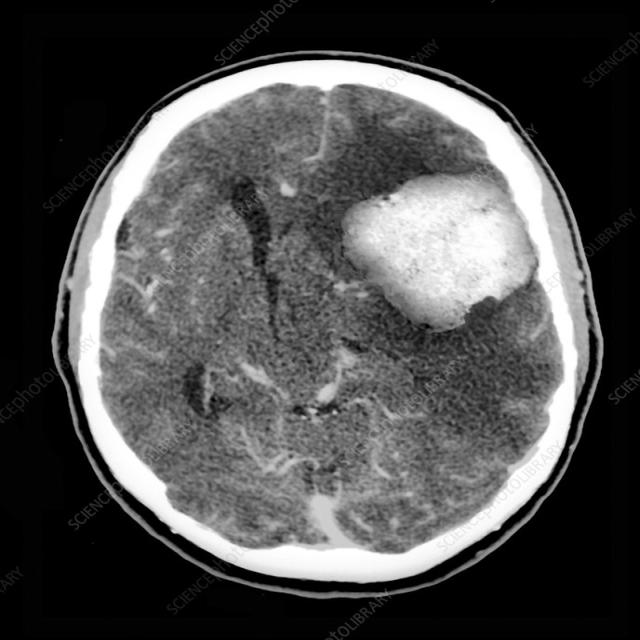Tumor: (346, 171, 536, 333)
